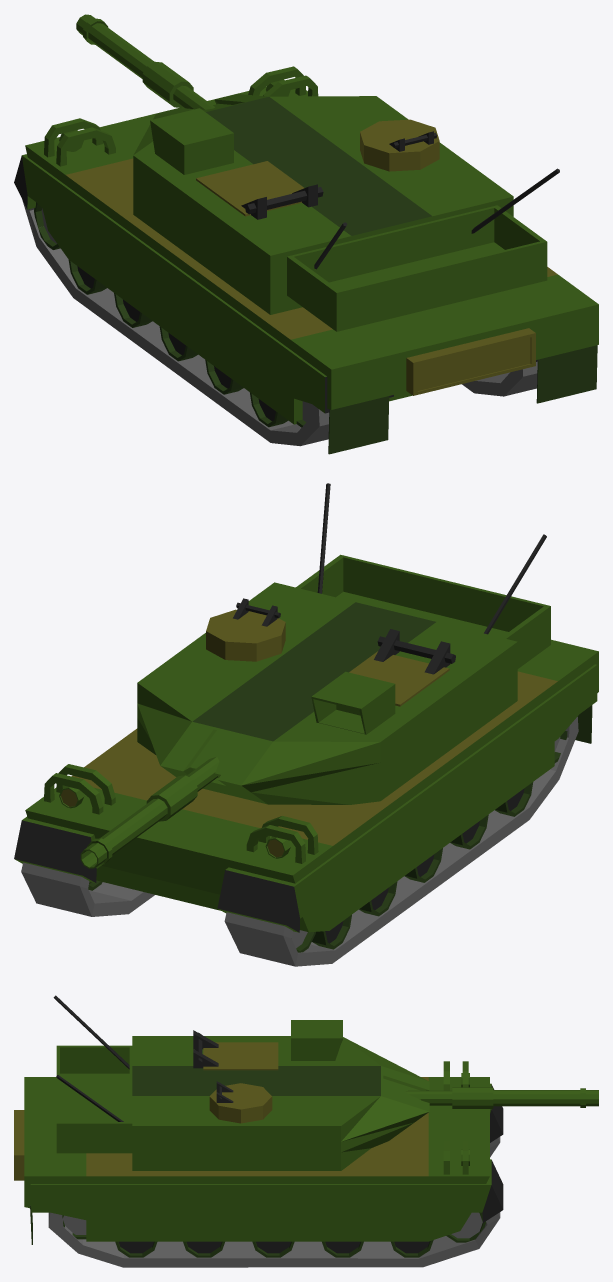
File: tank_phantom.glb
3 views of the same model, one above another, from view 1: azimuth 30°, elevation 25°; view 2: azimuth 150°, elevation 25°; view 3: azimuth 270°, elevation 25° (orthographic). The views are drawn at different scales.
Visible parts, largest first — view 1: TankBody, TankTurret; view 2: TankBody, TankTurret; view 3: TankBody, TankTurret.
Boxes of the visible parts, bbox=[...] form: TankBody: bbox=[14, 66, 598, 454]; TankTurret: bbox=[76, 14, 513, 256]; TankBody: bbox=[14, 483, 598, 966]; TankTurret: bbox=[80, 582, 517, 868]; TankBody: bbox=[14, 995, 503, 1267]; TankTurret: bbox=[129, 1020, 598, 1125].
Size of the model in its own units: 2.4 by 2.07 by 5.87.
